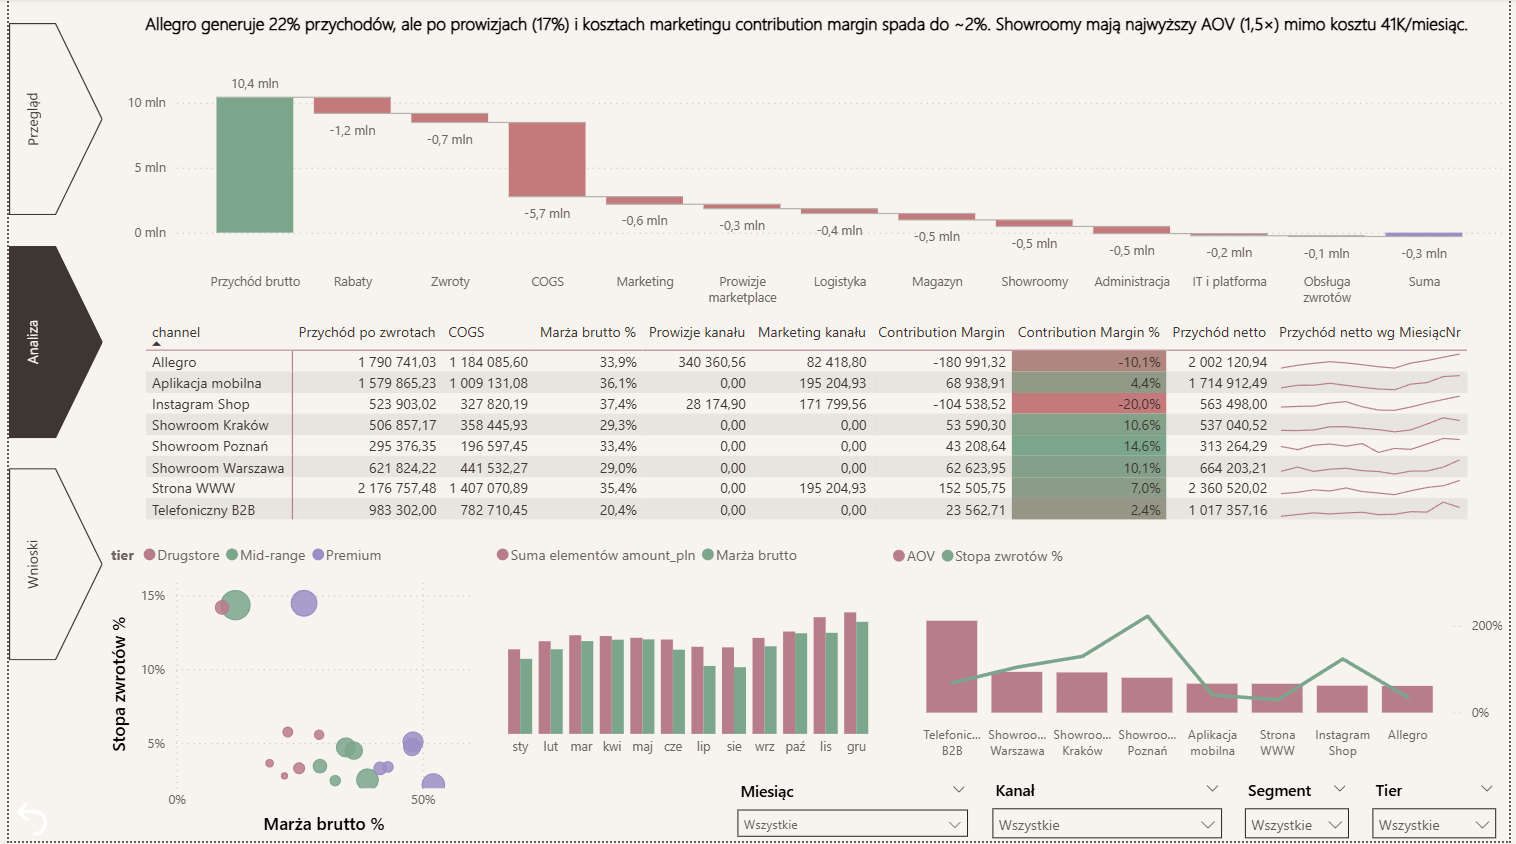

The page's visual inventory and layout, read from the dashboard file:
{"tool":"powerbi","page":{"name":"Analiza","canvas":[1280,720],"ordinal":1},"visuals":[{"type":"pageNavigator","box":[0,21,80.6,546.8],"z":0},{"type":"actionButton","box":[0,680.8,61.2,39.2],"z":1000},{"type":"card","fields":{"Values":["mMiary.Headline2"]},"box":[82.1,0,1197.9,48.7],"z":2000},{"type":"pivotTable","fields":{"Rows":["DimChannel.channel"],"Values":["mMiary.Przychód po zwrotach","mMiary.COGS","mMiary.Marża brutto %","mMiary.Prowizje kanału","mMiary.Marketing kanału","mMiary.Contribution Margin","mMiary.Contribution Margin %","mMiary.Przychód netto","SparklineData(mMiary.Przychód netto_[DimDate.MiesiącNr])"]},"box":[111.7,270.2,1152.7,184.9],"z":3000},{"type":"scatterChart","fields":{"X":["mMiary.Marża brutto %"],"Y":["mMiary.Stopa zwrotów %"],"Size":["mMiary.Przychód netto"],"Series":["FactProducts.tier"],"Category":["FactProducts.category"]},"box":[81.7,455.1,329,264.2],"z":4000},{"type":"clusteredColumnChart","fields":{"Category":["DimDate.MiesiącSkrót"],"Y":["Sum(FactOpEx.amount_pln)","mMiary.Marża brutto"]},"box":[410.7,455.1,338.6,201.7],"z":5000},{"type":"lineClusteredColumnComboChart","fields":{"Y":["mMiary.AOV"],"Category":["FactOrders.channel"],"Y2":["mMiary.Stopa zwrotów %"]},"box":[749.3,456.3,530.7,200.5],"z":6000},{"type":"waterfallChart","fields":{"Category":["WaterfallSteps.Krok"],"Y":["mMiary.Waterfall Wartość"]},"box":[96.1,52.8,1183.9,217.3],"z":7000},{"type":"slicer","fields":{"Values":["DimDate.MiesiącNazwa"]},"box":[611.2,667.6,217.3,52.8],"z":8000},{"type":"slicer","fields":{"Values":["FactOrders.channel"]},"box":[828.5,666.4,216.1,54],"z":9000},{"type":"slicer","fields":{"Values":["FactCustomers.segment"]},"box":[1044.7,666.4,109.3,54],"z":10000},{"type":"slicer","fields":{"Values":["FactProducts.tier"]},"box":[1153.9,666.4,126.1,54],"z":11000}]}

Visuals, with their boxes in screenshot pixels (x1, y1, x2, y2), scaled from the page's 1280x720 canvas onto the 1516x844 screenshot:
pageNavigator: 0:25:95:666
actionButton: 0:798:72:843
card - mMiary.Headline2: 97:0:1515:57
pivotTable - DimChannel.channel x mMiary.Przychód po zwrotach: 132:317:1498:533
scatterChart - mMiary.Marża brutto % x mMiary.Stopa zwrotów %: 97:533:486:843
clusteredColumnChart - DimDate.MiesiącSkrót x Sum(FactOpEx.amount_pln): 486:533:887:770
lineClusteredColumnComboChart - mMiary.AOV x FactOrders.channel: 887:535:1515:770
waterfallChart - WaterfallSteps.Krok x mMiary.Waterfall Wartość: 114:62:1515:317
slicer - DimDate.MiesiącNazwa: 724:783:981:843
slicer - FactOrders.channel: 981:781:1237:843
slicer - FactCustomers.segment: 1237:781:1367:843
slicer - FactProducts.tier: 1367:781:1515:843
